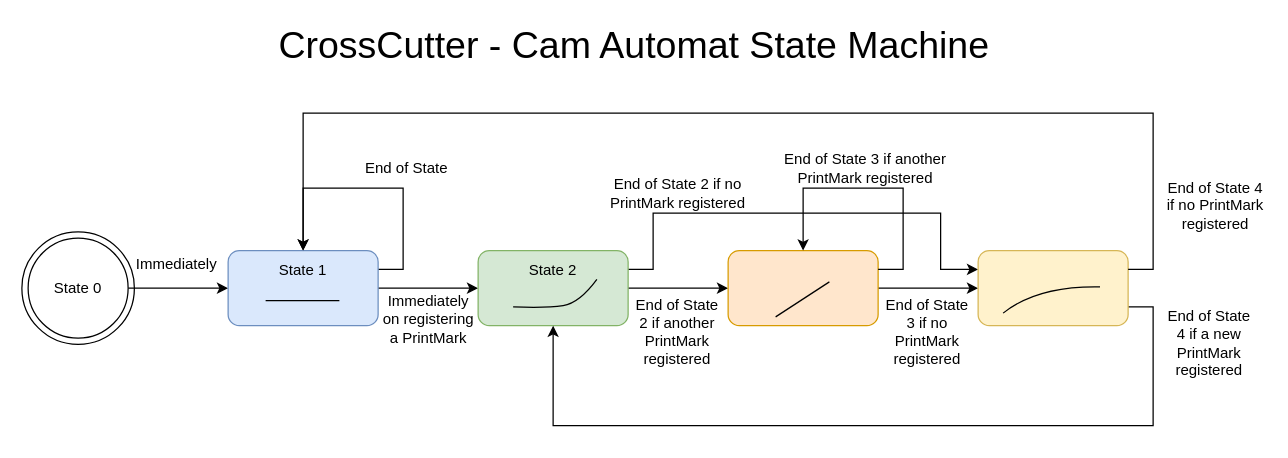
This 1288x458 diagram has some shape labels left out. The box of each missing label's shape, as (x1, y1, x2, y2) in pixels:
State 3: (727, 249, 878, 326)
State 4: (977, 249, 1128, 326)
